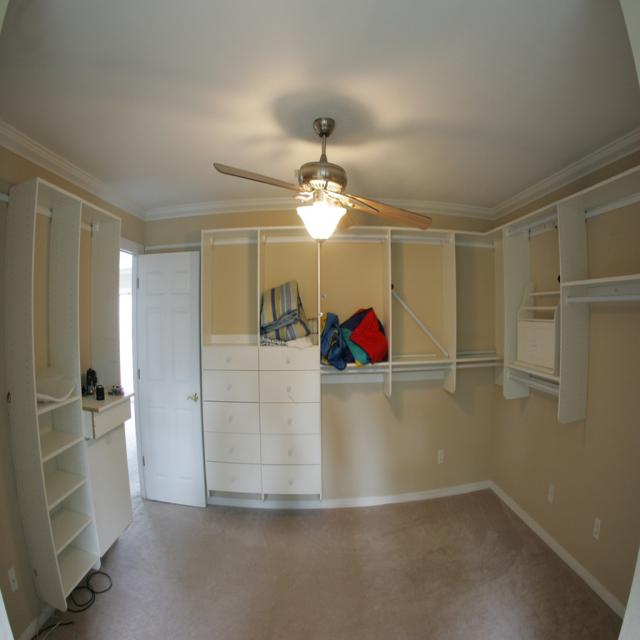Bulb: (216, 114, 434, 249)
